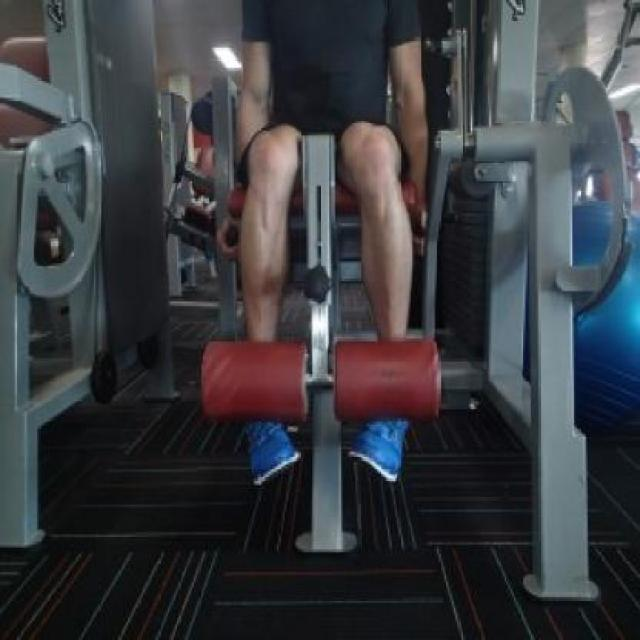leg extension: (151, 0, 623, 623)
